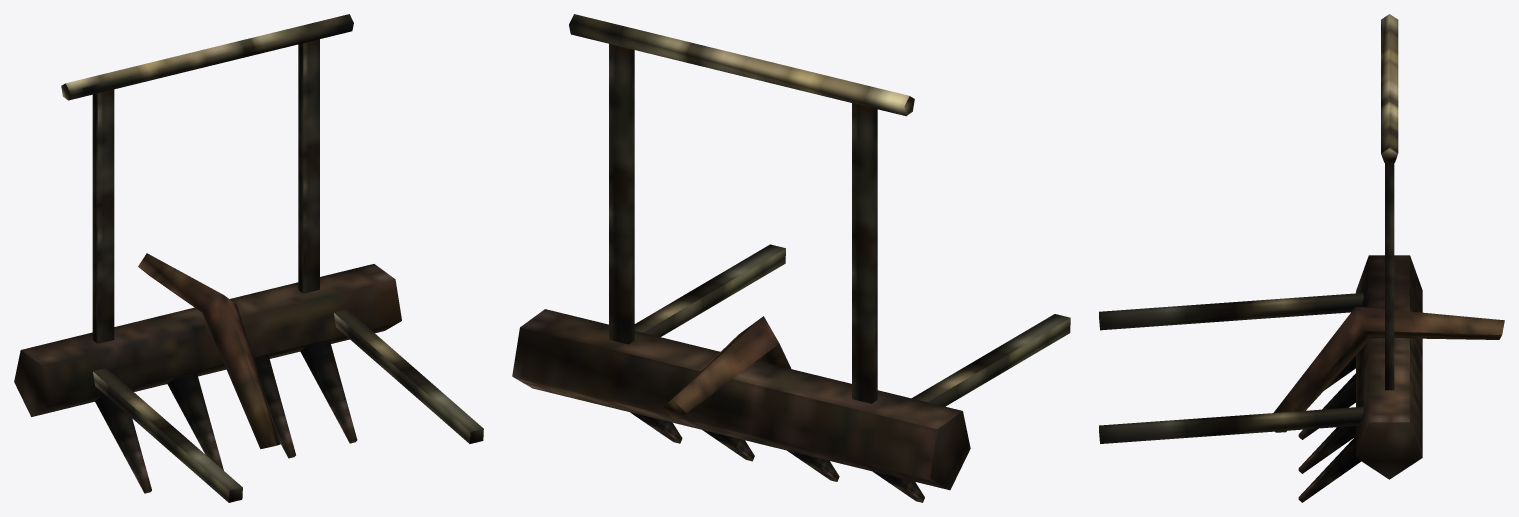
File: b_general_obj_10_11_01.glb
3 renders of one model, left to right at view 1: azimuth 30°, elevation 25°; view 2: azimuth 150°, elevation 25°; view 3: azimuth 270°, elevation 25°, orthographic. The views are drawn at different scales.
Visible parts, largest first — view 1: B_general_obj_06; view 2: B_general_obj_06; view 3: B_general_obj_06.
Boxes of the visible parts, <box> form: B_general_obj_06: <box>14,14,483,502</box>; B_general_obj_06: <box>512,14,1070,502</box>; B_general_obj_06: <box>1099,14,1504,502</box>.
Bounding box in the file's own units: 1.39 × 1.45 × 1.43.
1 material, 1 textured.
